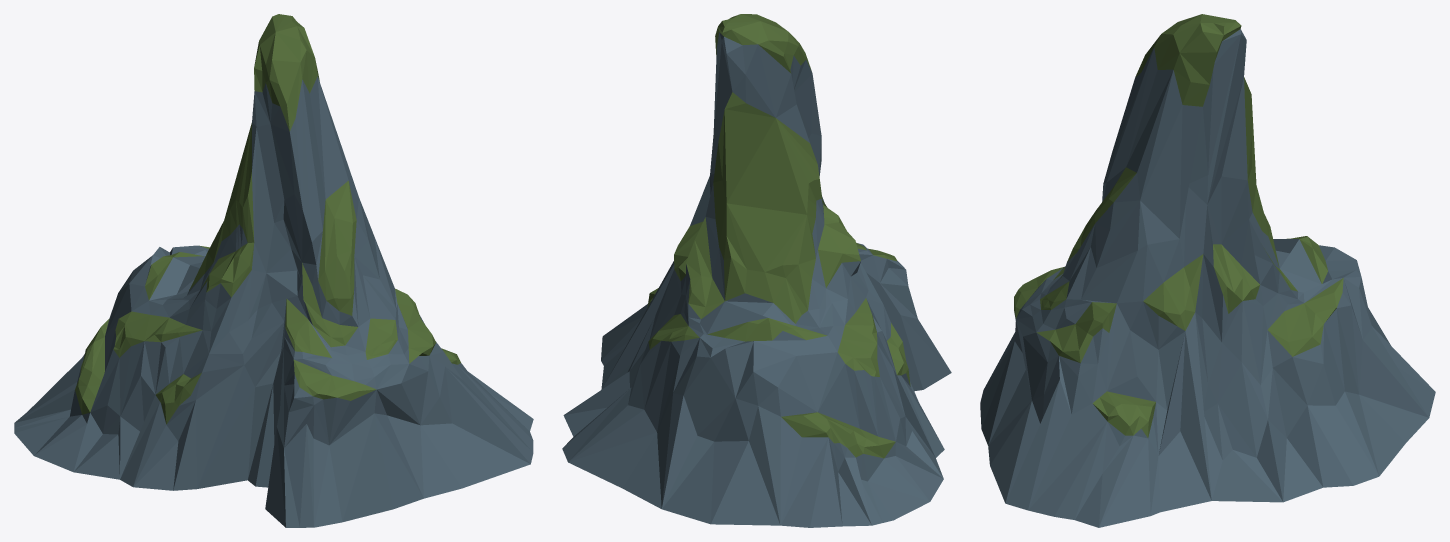
File: Mountain_6 Asia.fbx
The picture shows the model from 3 angles, left to right: view 1: azimuth 30°, elevation 25°; view 2: azimuth 150°, elevation 25°; view 3: azimuth 270°, elevation 25°; orthographic projection. The views are drawn at different scales.
Visible parts, largest first — view 1: Mountain_6; view 2: Mountain_6; view 3: Mountain_6.
Part boxes in pixels (x1,y1,x2,y2): Mountain_6: (14, 14, 533, 527); Mountain_6: (562, 14, 951, 527); Mountain_6: (980, 14, 1435, 527).
Size of the model in its own units: 45.17 by 42.09 by 42.19.
